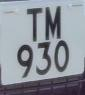0: (50, 38, 73, 75)
3: (32, 39, 55, 77)
9: (15, 42, 35, 80)
M: (43, 1, 66, 43)
T: (23, 4, 46, 45)
